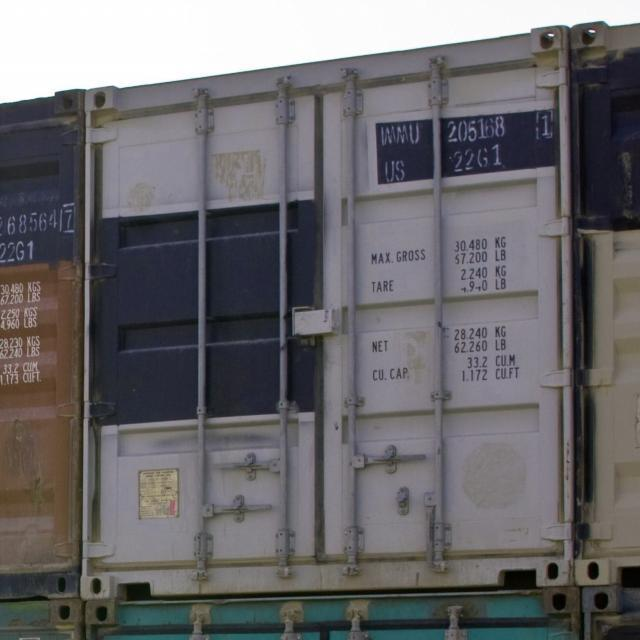ISO: (444, 148, 502, 170)
container_number: (369, 118, 514, 140)
